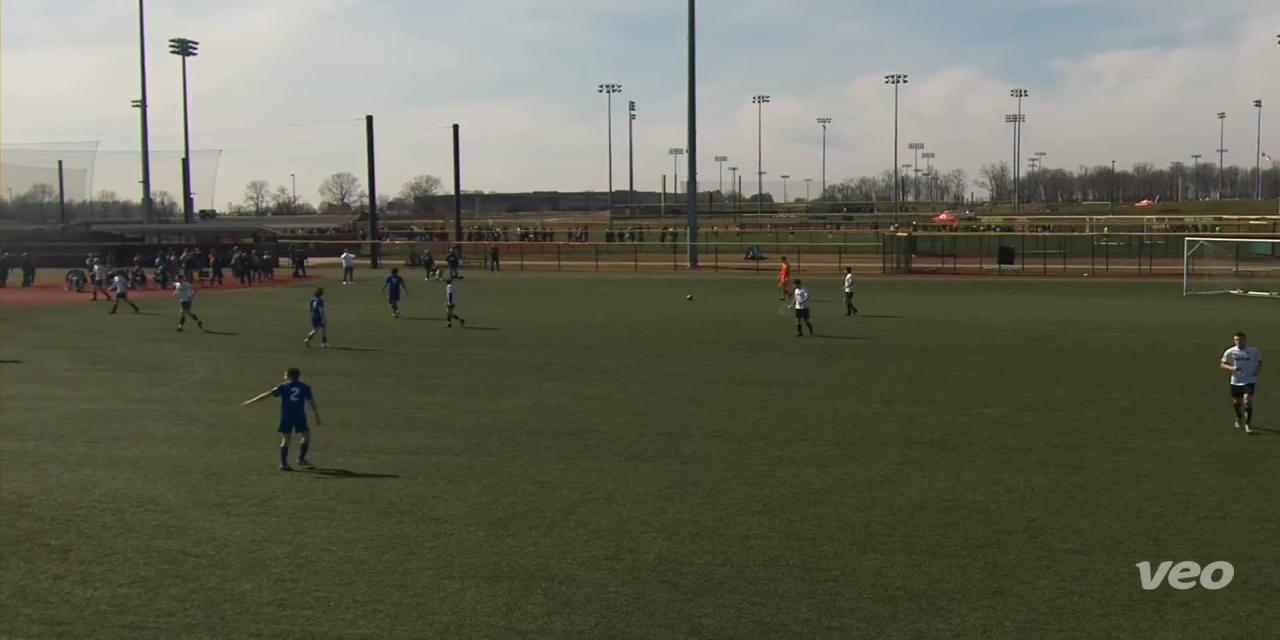goal: (1172, 230, 1280, 318)
sports ball: (681, 289, 701, 303)
